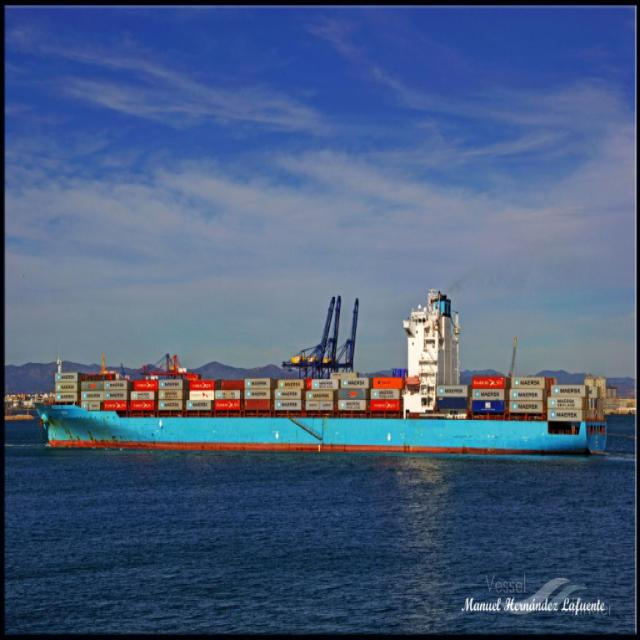Container Ship: (38, 296, 612, 464)
